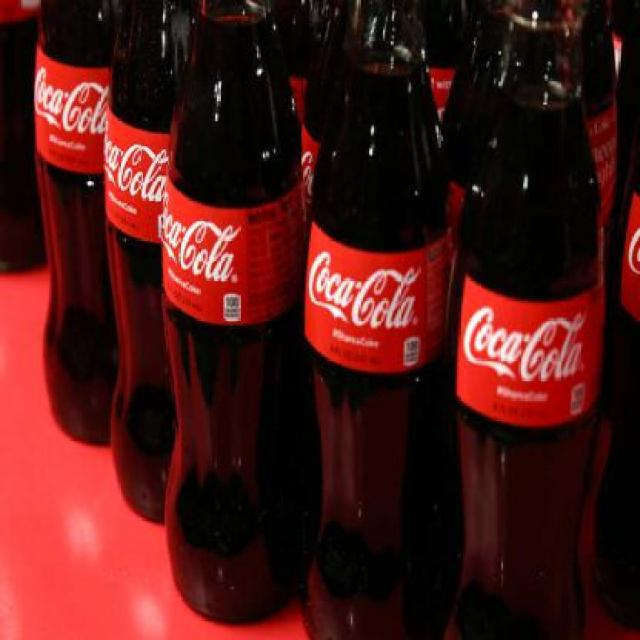Coke: (450, 6, 604, 640), (300, 1, 451, 640), (157, 2, 306, 626), (305, 1, 447, 640)
